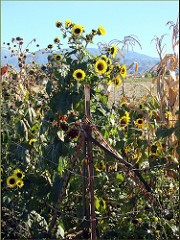flower: (69, 23, 86, 40), (93, 58, 108, 76), (71, 69, 86, 82), (6, 175, 20, 188)
